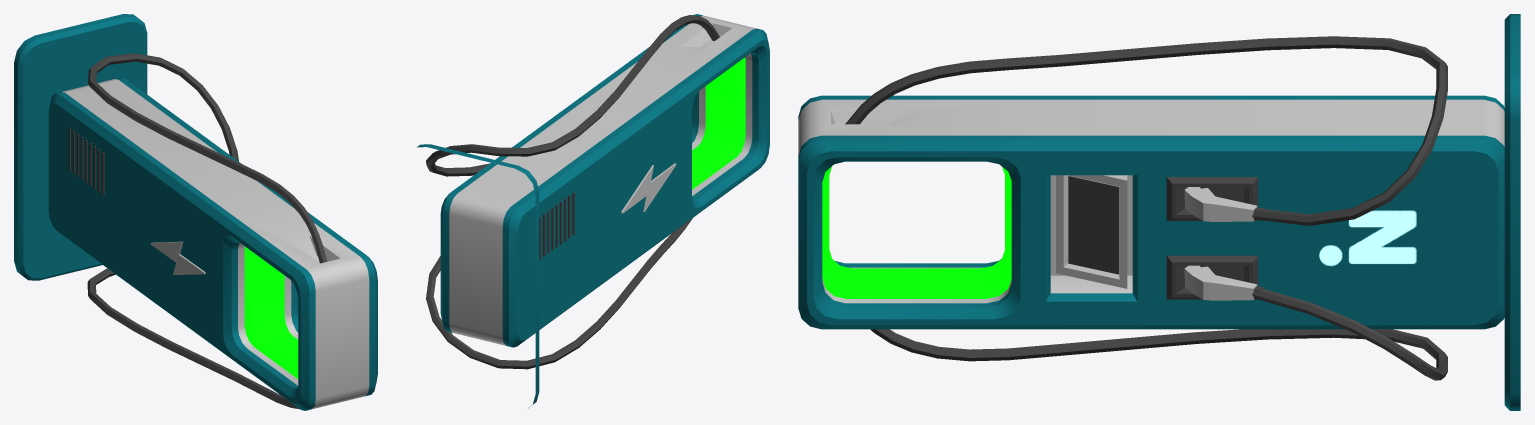
The model's file is e_vehicle_charger.glb.
3 renders of one model, left to right at view 1: azimuth 30°, elevation 25°; view 2: azimuth 150°, elevation 25°; view 3: azimuth 270°, elevation 25°, orthographic. The views are drawn at different scales.
Visible parts, largest first — view 1: e-vehicle_charger; view 2: e-vehicle_charger; view 3: e-vehicle_charger.
Part boxes in pixels (x1,y1,x2,y2): e-vehicle_charger: (14, 14, 377, 410); e-vehicle_charger: (417, 14, 769, 408); e-vehicle_charger: (798, 14, 1520, 410).
Bounding box in the file's own units: 0.7461 × 1.11 × 2.19.
